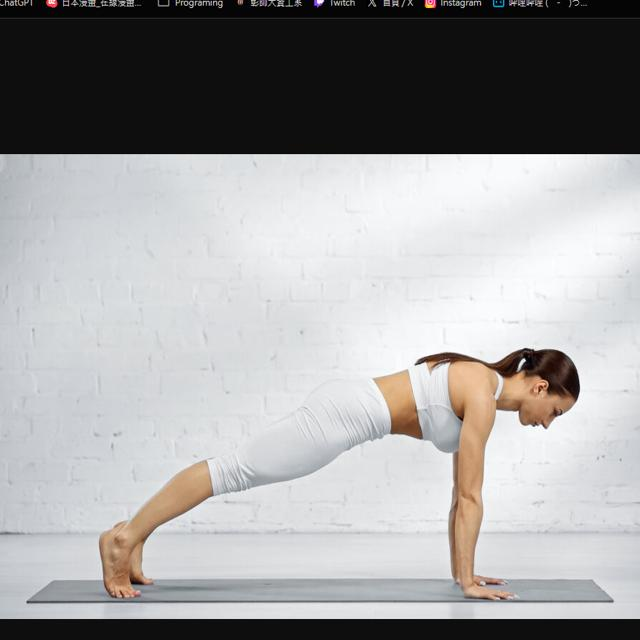Plank_Pose: (93, 343, 577, 601)
